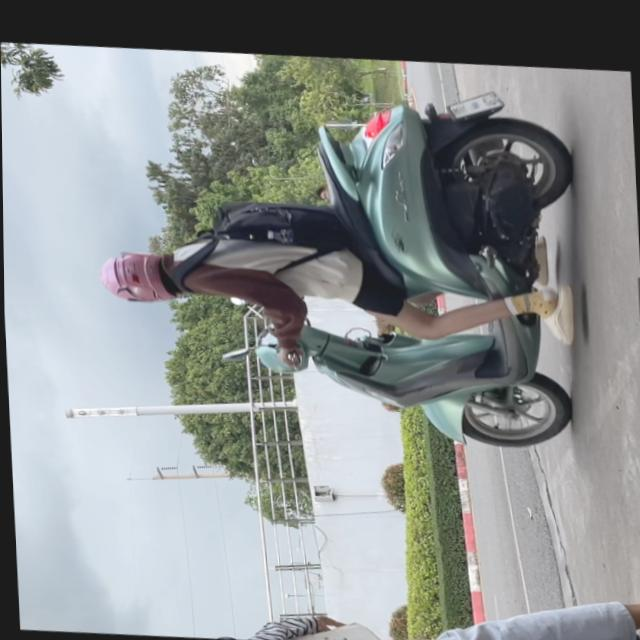no-seatbelt: (96, 243, 180, 304)
